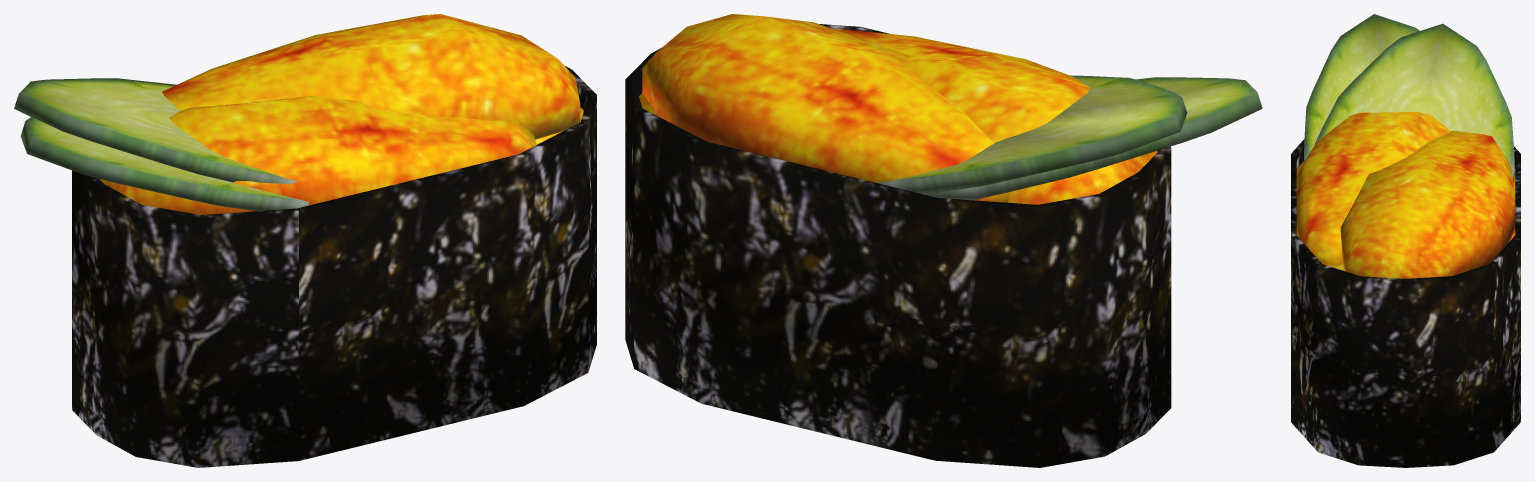
The model's file is sea_urchin_2.fbx.
3 renders of one model, left to right at view 1: azimuth 30°, elevation 25°; view 2: azimuth 150°, elevation 25°; view 3: azimuth 270°, elevation 25°, orthographic. The views are drawn at different scales.
Visible parts, largest first — view 1: sea_urchin_2; view 2: sea_urchin_2; view 3: sea_urchin_2.
Boxes of the visible parts, <box> form: sea_urchin_2: <box>14,14,596,467</box>; sea_urchin_2: <box>625,14,1262,467</box>; sea_urchin_2: <box>1291,14,1520,467</box>.
Size of the model in its own units: 6.68 by 3.79 by 3.14.
